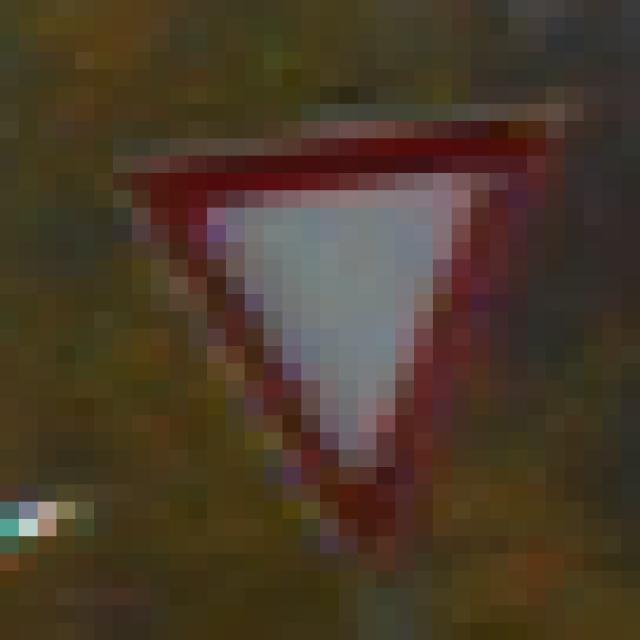Give Way: (114, 88, 547, 555)
